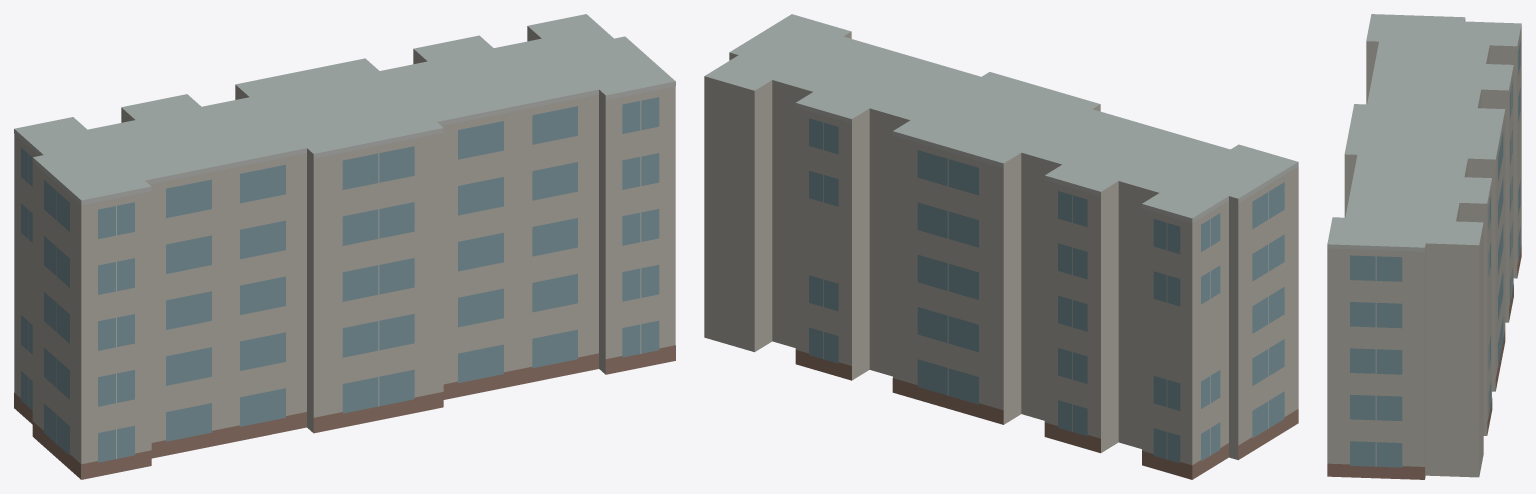
The model's file is survey-upis-32658767.glb.
3 views of the same model, side by side, from view 1: azimuth 30°, elevation 25°; view 2: azimuth 150°, elevation 25°; view 3: azimuth 270°, elevation 25° (orthographic). The views are drawn at different scales.
Parts seen in each view (by area): view 1: survey-upis-32658767.tmp; view 2: survey-upis-32658767.tmp; view 3: survey-upis-32658767.tmp.
Part boxes in pixels (left/top/right/bottom): survey-upis-32658767.tmp: left=14, top=14, right=675, bottom=479; survey-upis-32658767.tmp: left=704, top=14, right=1298, bottom=479; survey-upis-32658767.tmp: left=1327, top=14, right=1521, bottom=479.
Bounding box in the file's own units: 30 × 13.9 × 10.56.
